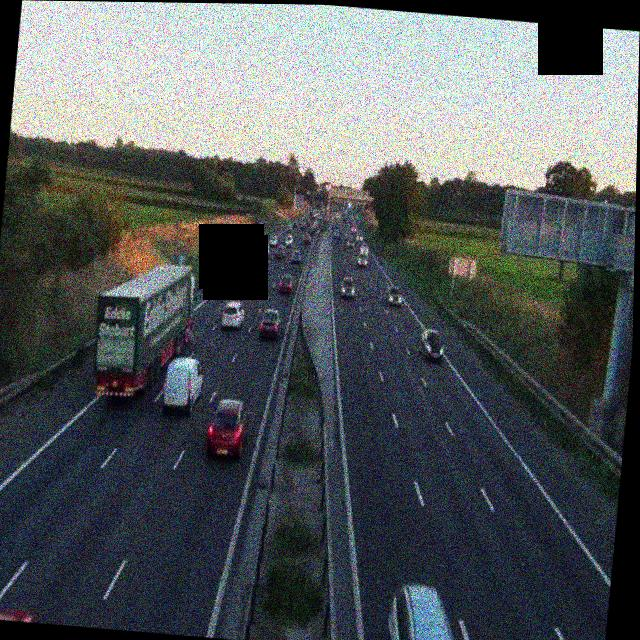bus: (216, 240, 249, 289)
car: (385, 580, 461, 640), (205, 397, 251, 460), (160, 354, 204, 415), (419, 327, 444, 363), (219, 299, 244, 330), (259, 308, 281, 339), (0, 606, 35, 623), (385, 285, 403, 307), (339, 276, 356, 298), (279, 271, 294, 293), (357, 247, 369, 269), (289, 248, 301, 265), (258, 243, 270, 257), (275, 245, 286, 259), (302, 231, 311, 245), (283, 225, 291, 237), (332, 228, 339, 238)
truck: (88, 257, 198, 402)
